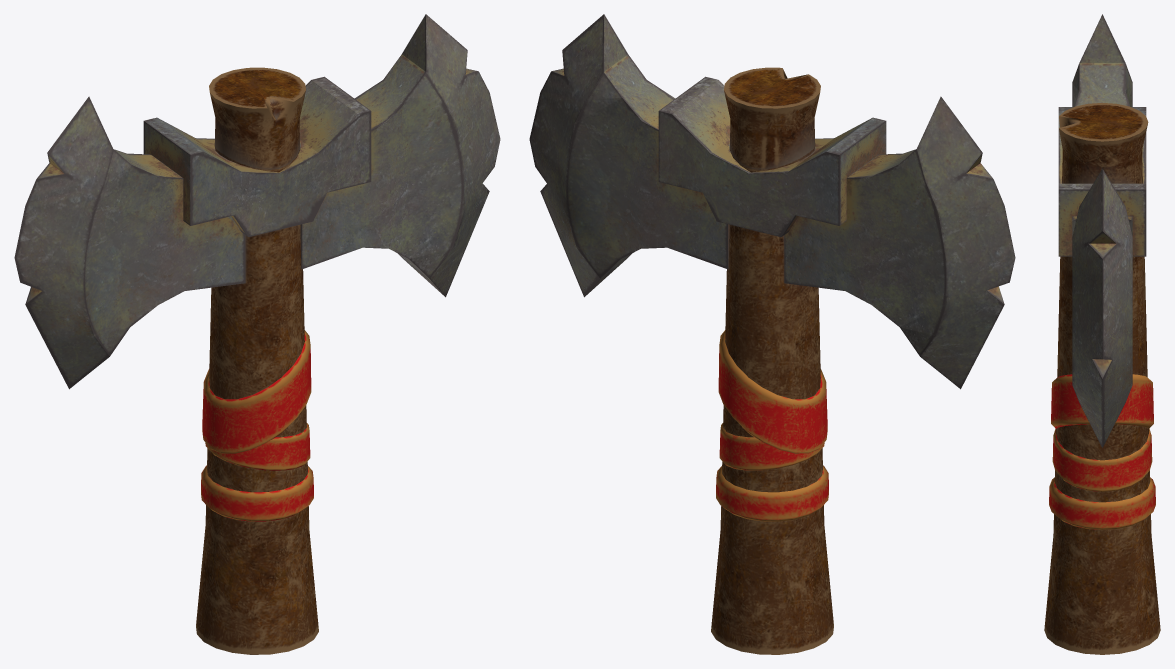
File: whthrowingaxe.glb
3 views of the same model, side by side, from view 1: azimuth 30°, elevation 25°; view 2: azimuth 150°, elevation 25°; view 3: azimuth 270°, elevation 25° (orthographic). The views are drawn at different scales.
Parts seen in each view (by area): view 1: Axe_low; view 2: Axe_low; view 3: Axe_low.
Part boxes in pixels (x1=…): Axe_low: x1=14, y1=14, x2=500, y2=654; Axe_low: x1=529, y1=14, x2=1015, y2=654; Axe_low: x1=1044, y1=14, x2=1160, y2=654.
Bounding box in the file's own units: 0.1055 × 0.1191 × 0.0233.
1 material, 1 textured.
